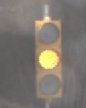Yellow: (31, 8, 74, 103)
